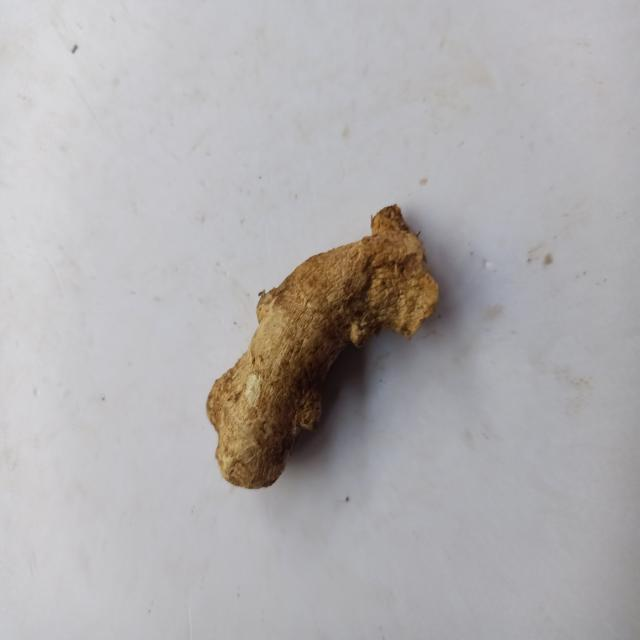Ginger: (206, 204, 439, 489)
